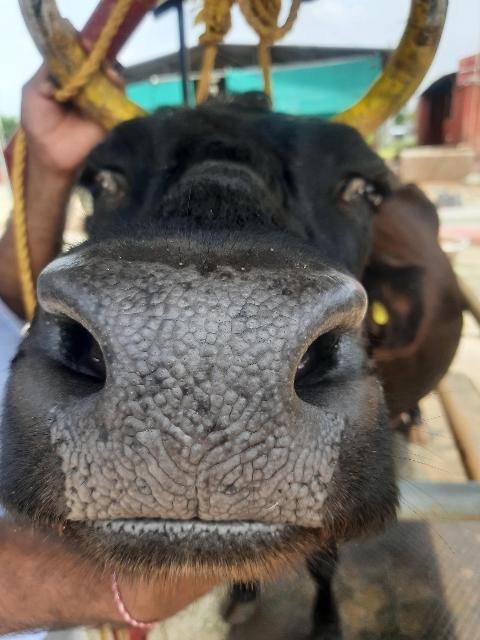Muzzle: (90, 271, 298, 519)
